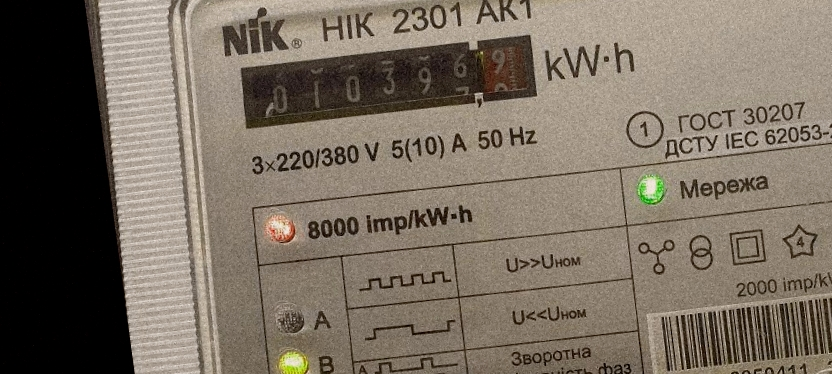0: (339, 70, 365, 105), (266, 80, 290, 115)
1: (307, 75, 324, 110)
3: (377, 63, 399, 98)
6: (447, 49, 471, 81)
9: (411, 62, 435, 98), (485, 45, 509, 78)
screen: (221, 15, 550, 150)
